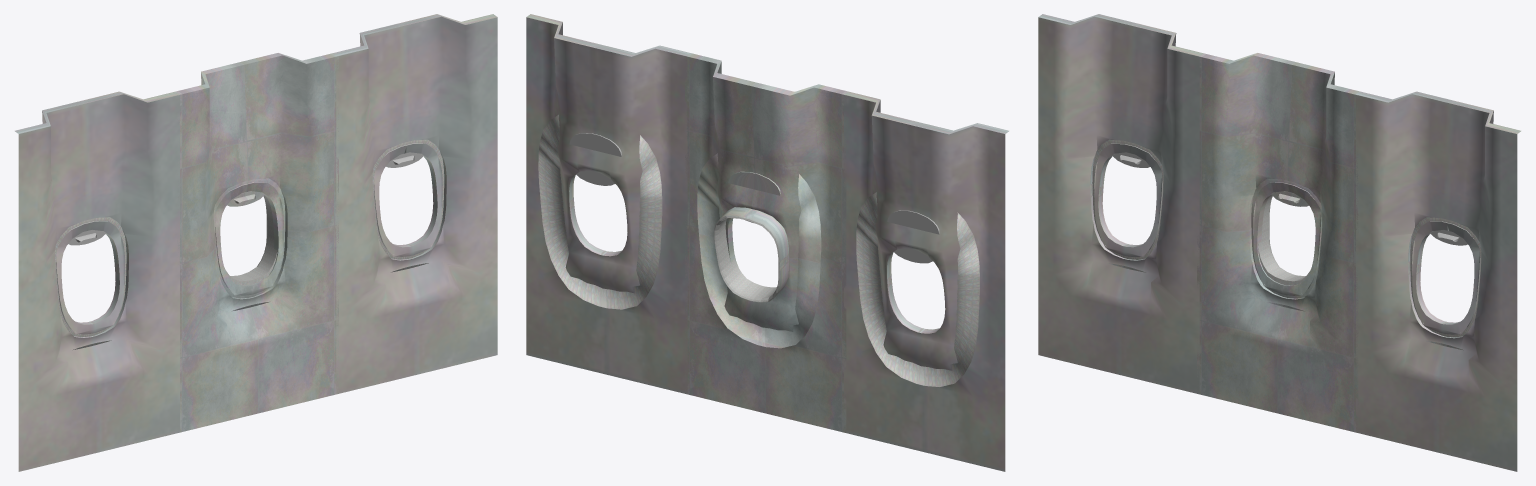
3 renders of one model, left to right at view 1: azimuth 30°, elevation 25°; view 2: azimuth 150°, elevation 25°; view 3: azimuth 330°, elevation 25°, orthographic.
Parts seen in each view (by area): view 1: pCube9; view 2: pCube9; view 3: pCube9.
Boxes of the visible parts, x1,y1,x2,y2 form: pCube9: [15, 14, 497, 471]; pCube9: [526, 14, 1008, 471]; pCube9: [1038, 14, 1520, 471].
Bounding box in the file's own units: 4.39 × 2.96 × 0.4139.
2 materials, 1 textured.
